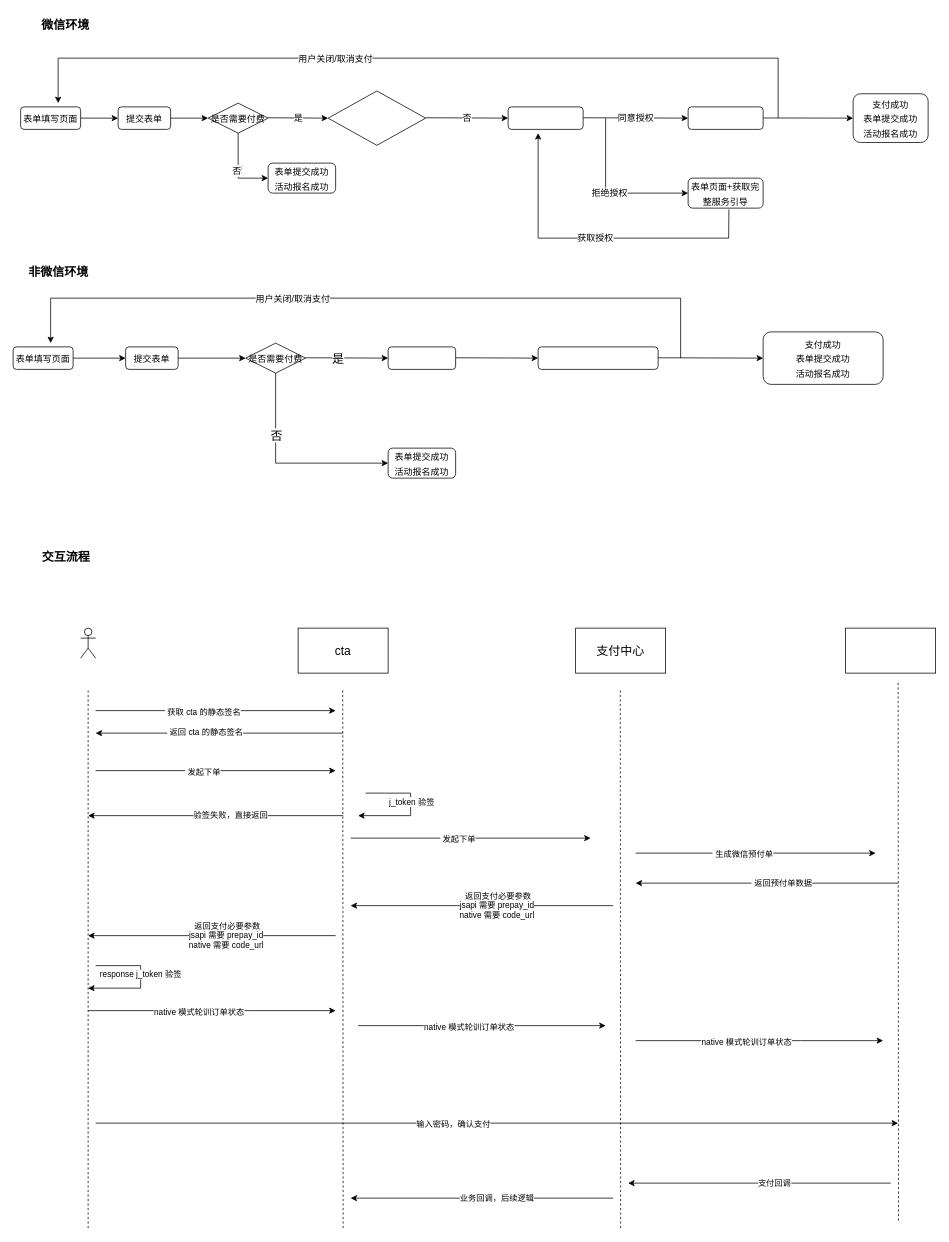
The diagram is 949 pixels wide and 1242 high, and some of its shapes have lost their labels. Each missing label, with the centre of its shape:
"发起支付" goes at [725,117].
"弹出付款二维码" goes at [421,357].
"微信" goes at [890,650].
"授权头像昵称引导" goes at [545,117].
"是否已授权活动关联的 公众号头像&昵称" goes at [376,117].
"用户" goes at [88,642].
"用户微信扫描二维码支付" goes at [597,357].
